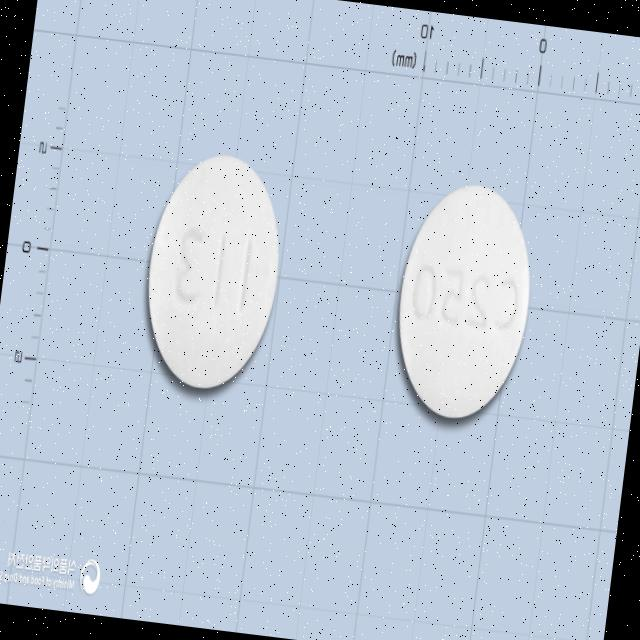Ciprofloxacin Hcl Tab- Ilyang: (126, 136, 296, 404), (379, 173, 542, 435)
